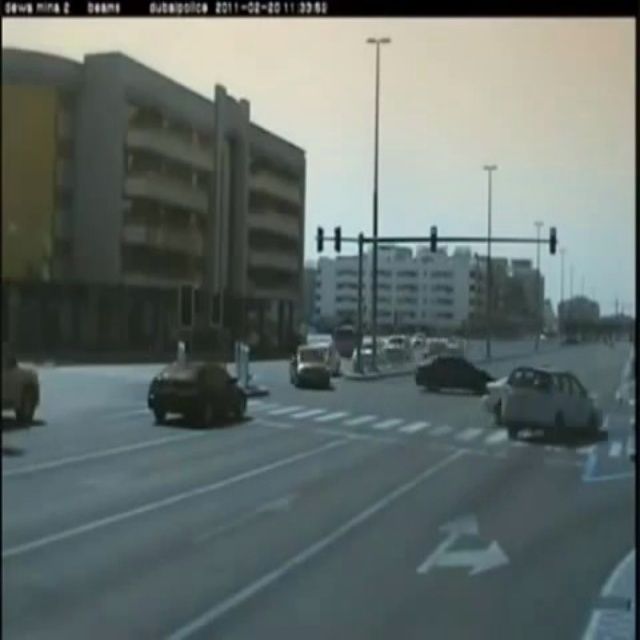acc: (479, 362, 604, 441)
